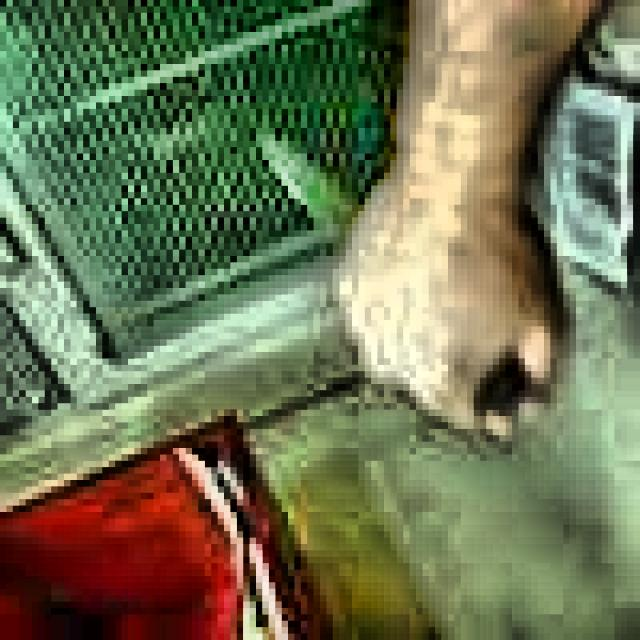knife: (265, 140, 531, 409)
